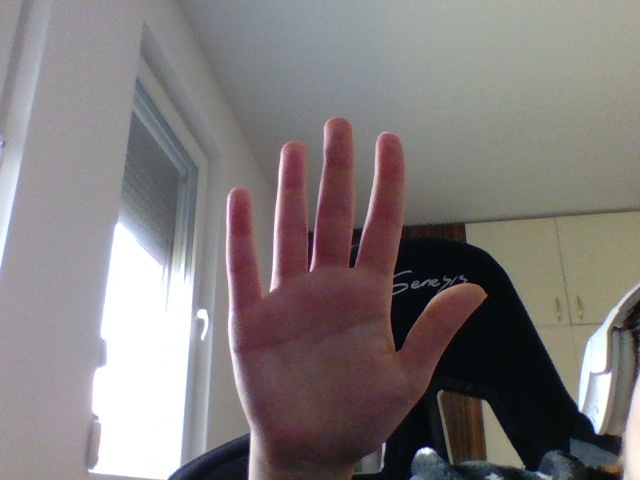HighFive: (224, 115, 485, 451)
